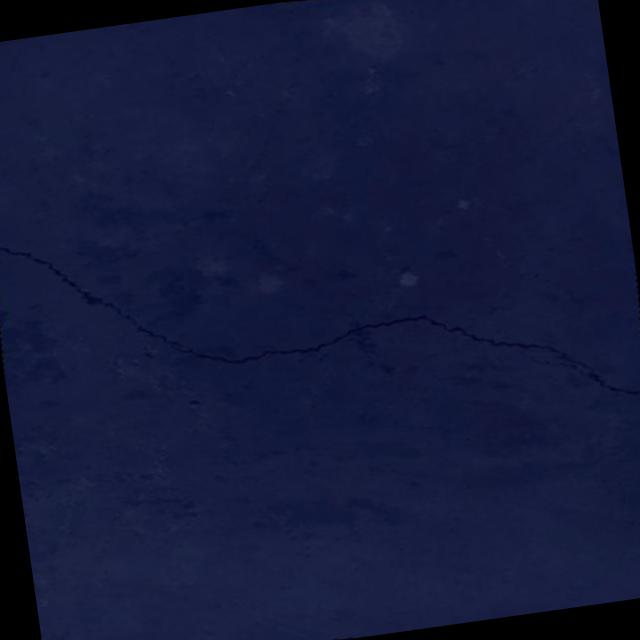crack: (0, 153, 640, 484)
